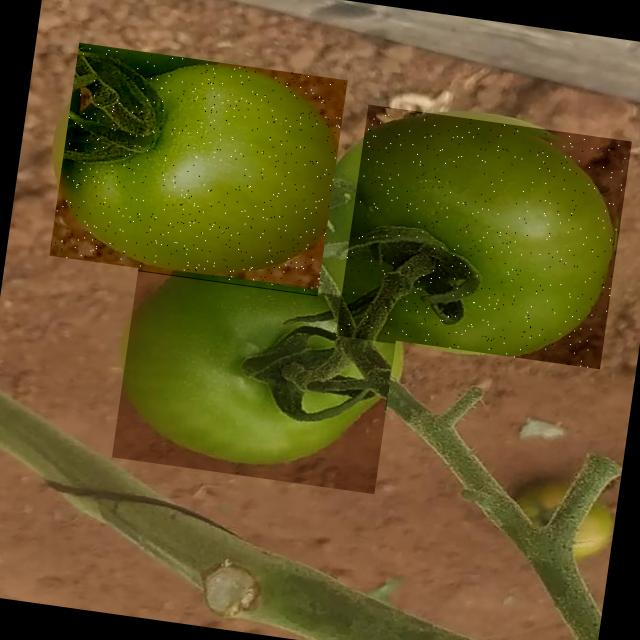Unripe Tomato: (336, 104, 632, 370), (50, 42, 348, 294), (112, 265, 401, 494)
